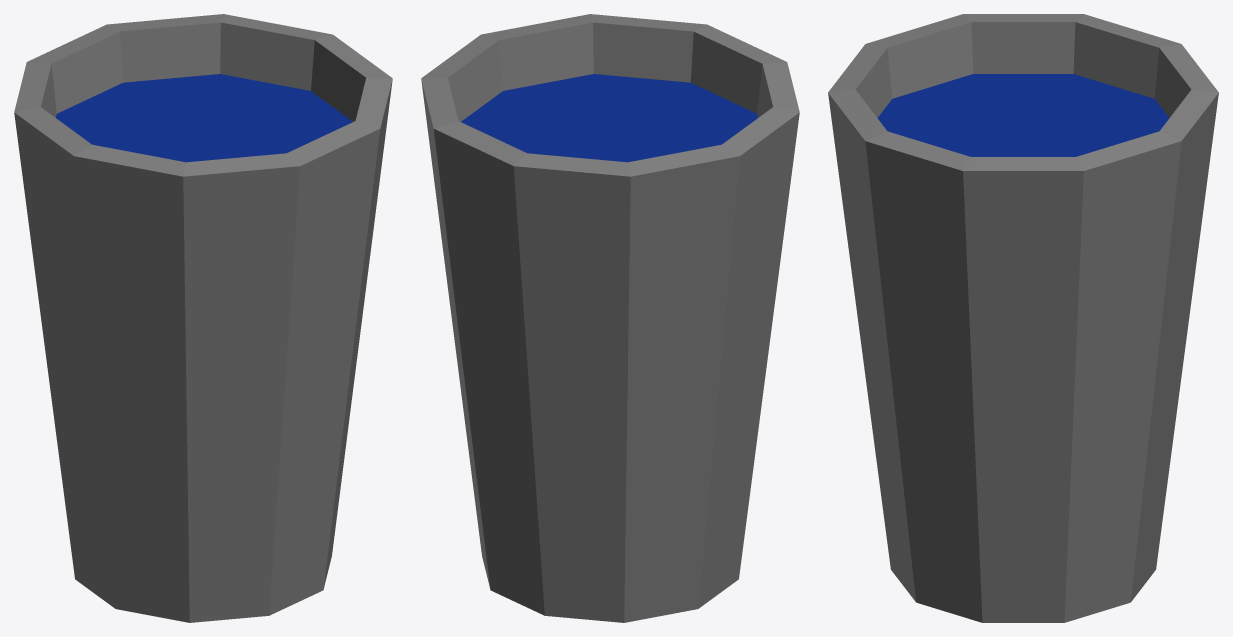
File: Agua.fbx
3 views of the same model, side by side, from view 1: azimuth 30°, elevation 25°; view 2: azimuth 150°, elevation 25°; view 3: azimuth 270°, elevation 25° (orthographic).
Visible parts, largest first — view 1: Circle, Circle.005; view 2: Circle, Circle.005; view 3: Circle, Circle.005.
Boxes of the visible parts, left/top/right/bottom form: Circle: left=14, top=14, right=392, bottom=622; Circle.005: left=56, top=74, right=352, bottom=162; Circle: left=421, top=14, right=799, bottom=622; Circle.005: left=461, top=74, right=757, bottom=162; Circle: left=828, top=14, right=1218, bottom=622; Circle.005: left=877, top=74, right=1169, bottom=156.
Bounding box in the file's own units: 13.46 × 19.17 × 14.15.
